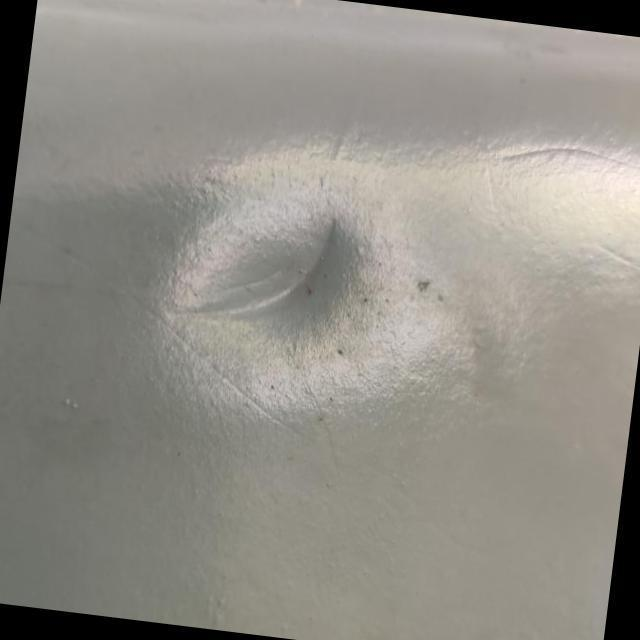Dent: (112, 160, 390, 398)
